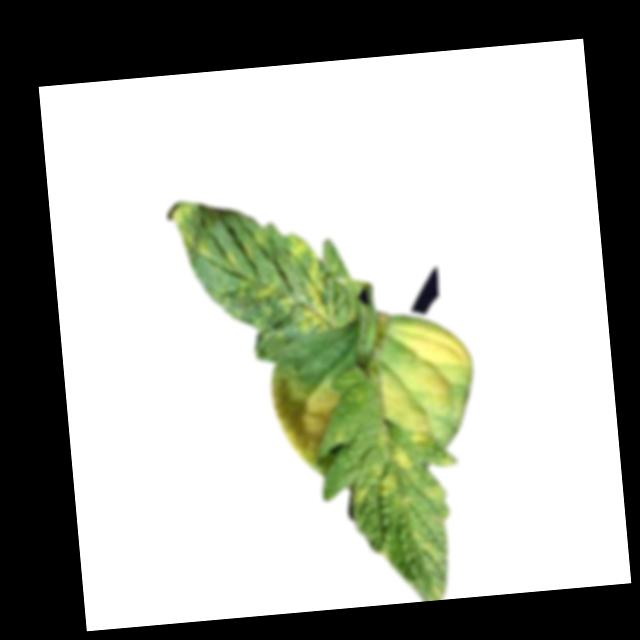Leaf_Mold: (373, 313, 482, 445), (269, 365, 346, 468), (284, 230, 344, 335), (347, 443, 420, 510), (171, 198, 210, 264), (237, 276, 285, 307)
